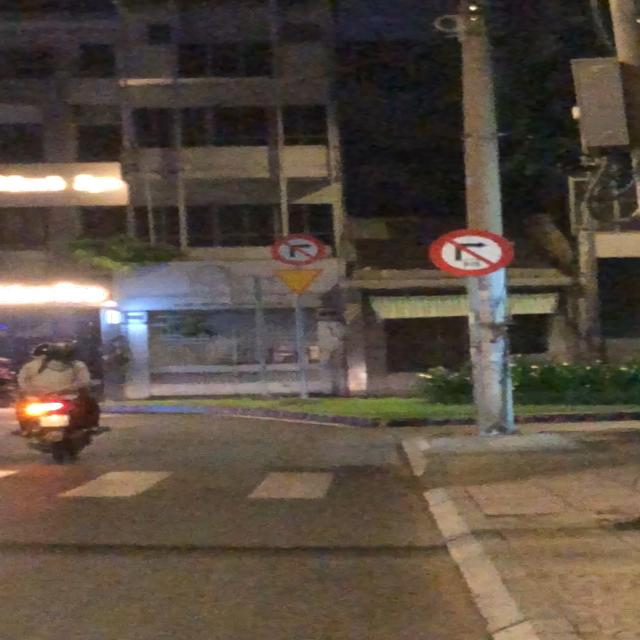Bien bao cam re phai: (269, 232, 325, 267)
Bien bao cam xe o to re phai: (427, 228, 518, 278)
Bien bao giao nhau voi duong uu tien: (268, 265, 335, 298)
